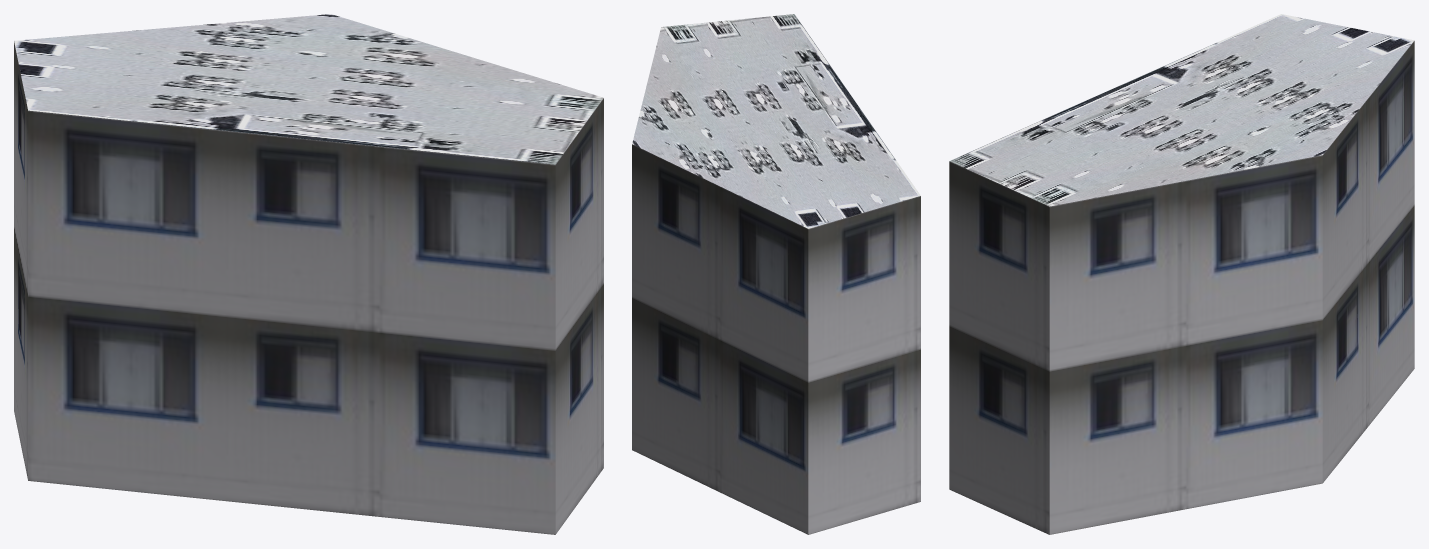
Rendered from ResTex__823.fbx.
3 renders of one model, left to right at view 1: azimuth 30°, elevation 25°; view 2: azimuth 150°, elevation 25°; view 3: azimuth 270°, elevation 25°, orthographic. The views are drawn at different scales.
Visible parts, largest first — view 1: CityEngineMaterial_9_m, CityEngineMaterial_m; view 2: CityEngineMaterial_9_m, CityEngineMaterial_m; view 3: CityEngineMaterial_9_m, CityEngineMaterial_m.
Part boxes in pixels (bbox=[...]): CityEngineMaterial_9_m: bbox=[14, 41, 603, 534]; CityEngineMaterial_m: bbox=[14, 14, 603, 164]; CityEngineMaterial_9_m: bbox=[632, 144, 920, 534]; CityEngineMaterial_m: bbox=[632, 14, 920, 228]; CityEngineMaterial_9_m: bbox=[949, 41, 1414, 534]; CityEngineMaterial_m: bbox=[949, 14, 1414, 206].
Size of the model in its own units: 7.55 by 6 by 7.7.
Materials: 2 (2 with a texture image).
